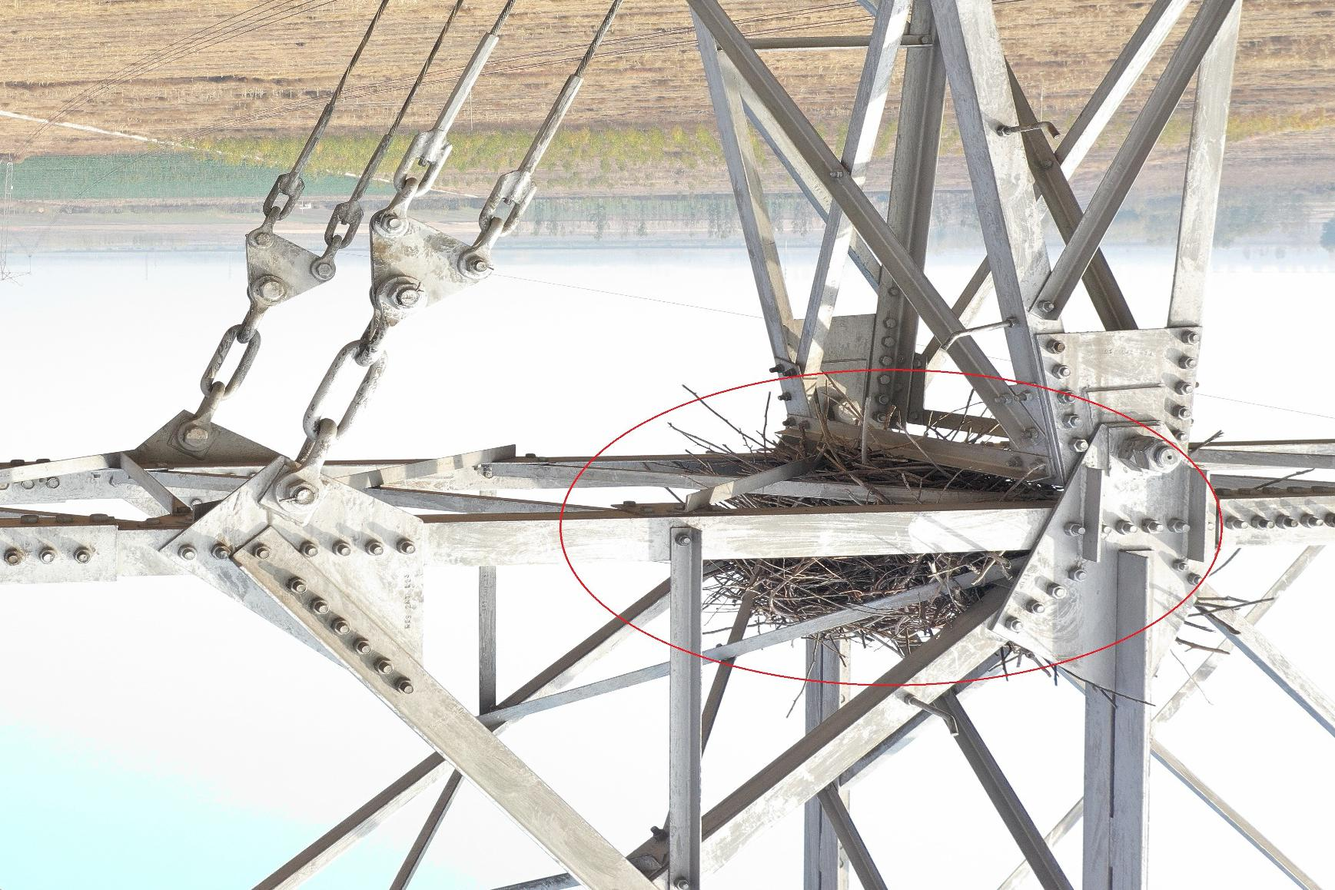nest: (693, 370, 1047, 657)
